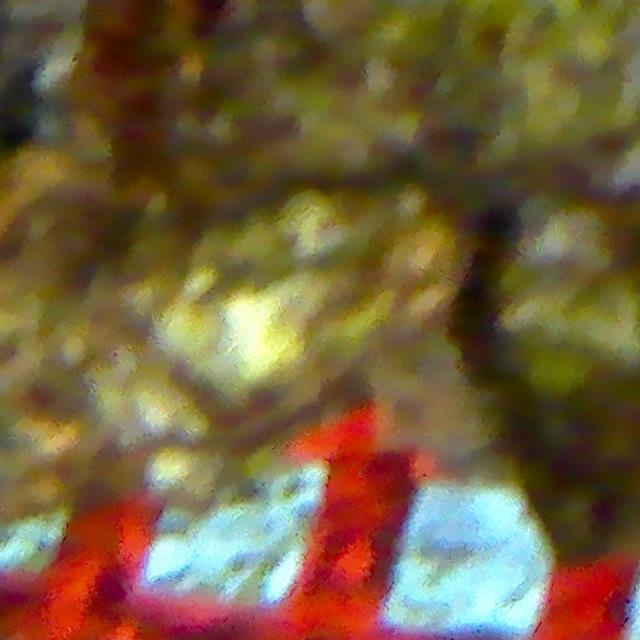SeaGrape: (593, 420, 640, 471)
